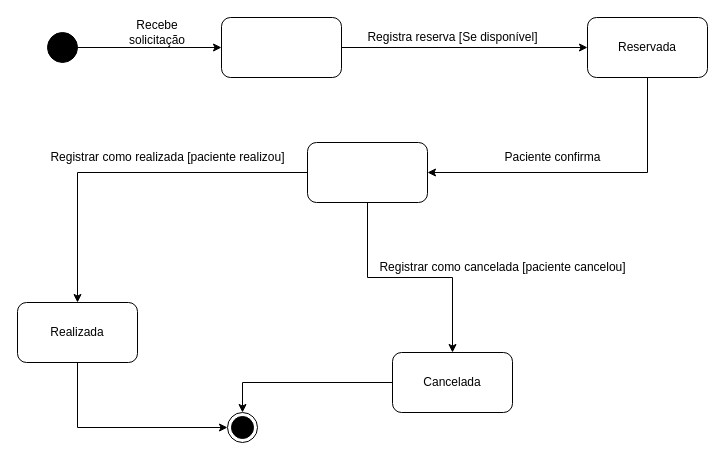
Some shapes in this 725 by 460 pixel diagram are drawn without their labels. Here are the shapes that lost their labels. From the top down, the box of each, then its label:
(220, 16, 342, 78): Solicitada
(306, 142, 428, 202): Confirmada
